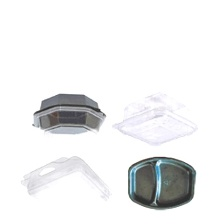plastic_box: (15, 151, 117, 216), (107, 87, 203, 151), (119, 152, 200, 217), (24, 88, 110, 148)
